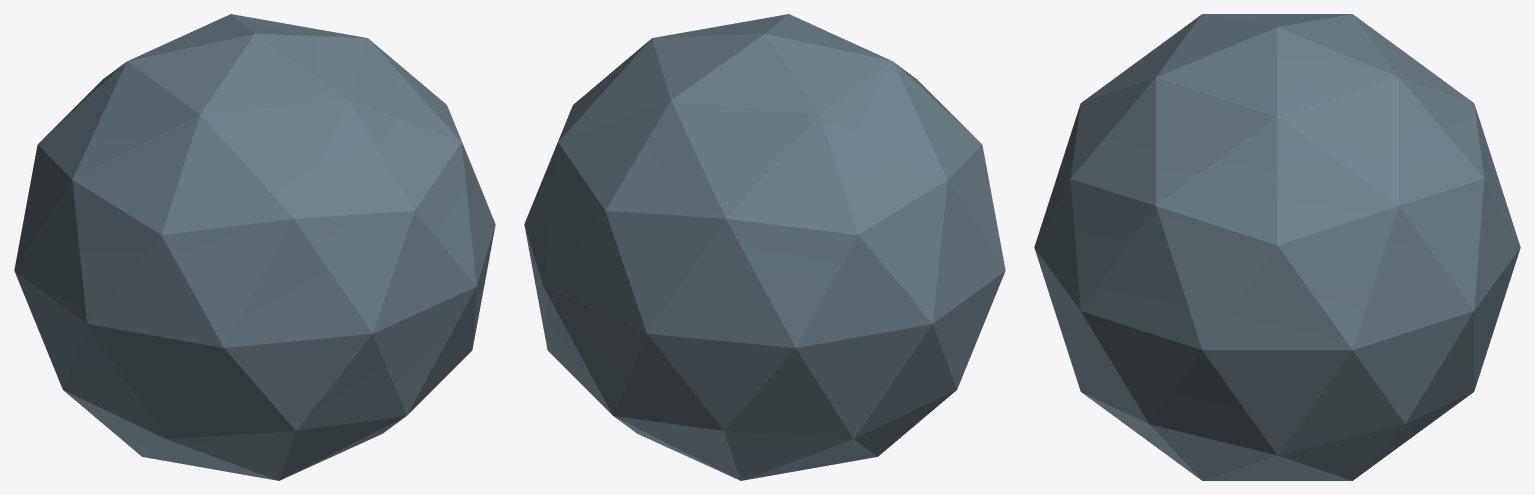
Rendered from helloGLTFTwo.glb.
The picture shows the model from 3 angles, left to right: view 1: azimuth 30°, elevation 25°; view 2: azimuth 150°, elevation 25°; view 3: azimuth 270°, elevation 25°; orthographic projection. The views are drawn at different scales.
Visible parts, largest first — view 1: Icosphere; view 2: Icosphere; view 3: Icosphere.
Boxes of the visible parts, x1,y1,x2,y2 form: Icosphere: (14,14,495,480); Icosphere: (524,14,1005,480); Icosphere: (1034,14,1520,480).
Size of the model in its own units: 2 by 2 by 2.
Materials: 1 (1 with a texture image).
